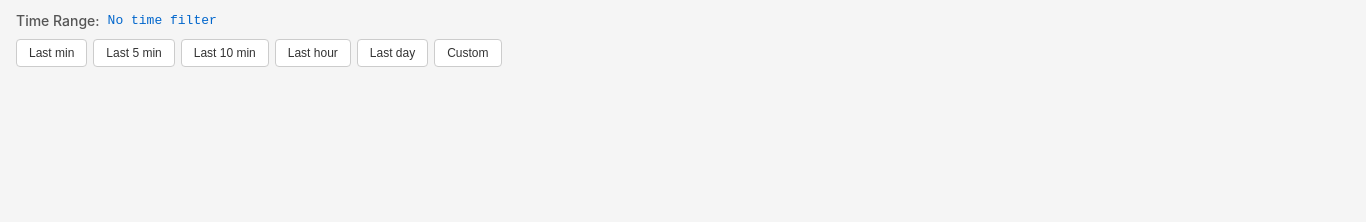
Test: TimeFilter › custom filter › shows error when Apply is clicked with empty inputs
The image size is (1366, 222).
Click the button "Custom" at (468, 53), box x1=434 y1=39 x2=502 y2=67
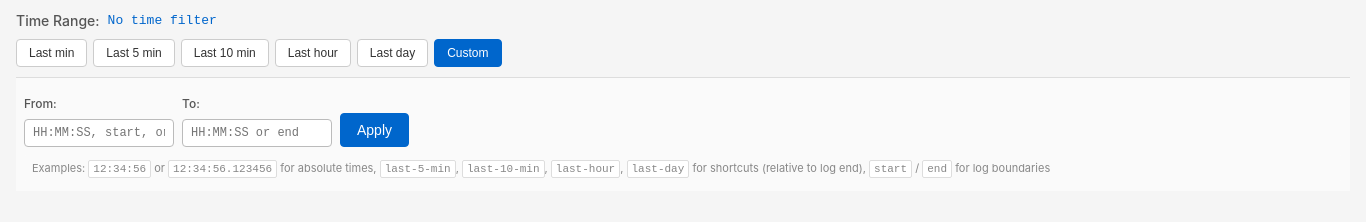
Click the button "Apply" at (374, 130), box x1=340 y1=113 x2=409 y2=147
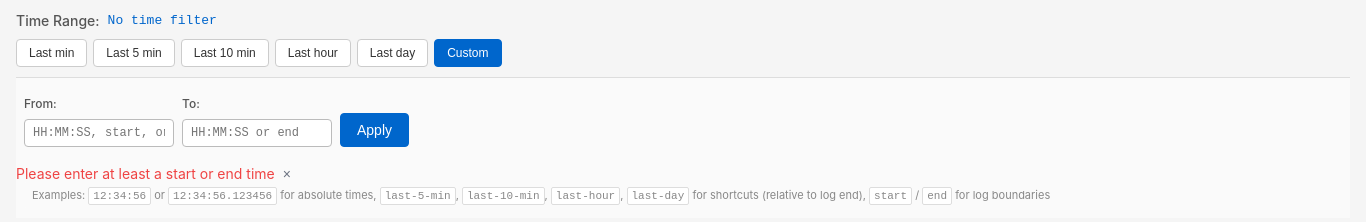
expect the text "Please enter at least a start or end time ×" is shown: met, box x1=16 y1=165 x2=291 y2=182
